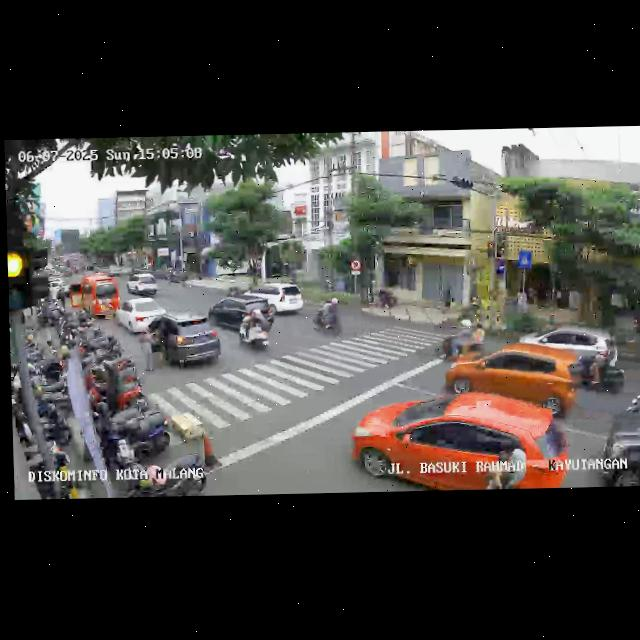car: (349, 392, 567, 492), (444, 341, 581, 419), (518, 324, 619, 369), (148, 311, 222, 369), (593, 413, 640, 486), (206, 295, 275, 335), (63, 274, 119, 321), (247, 282, 306, 318), (116, 296, 164, 332), (126, 272, 159, 298)
motorcycle: (576, 338, 627, 399), (435, 317, 484, 363), (236, 308, 272, 351), (312, 295, 343, 335)
